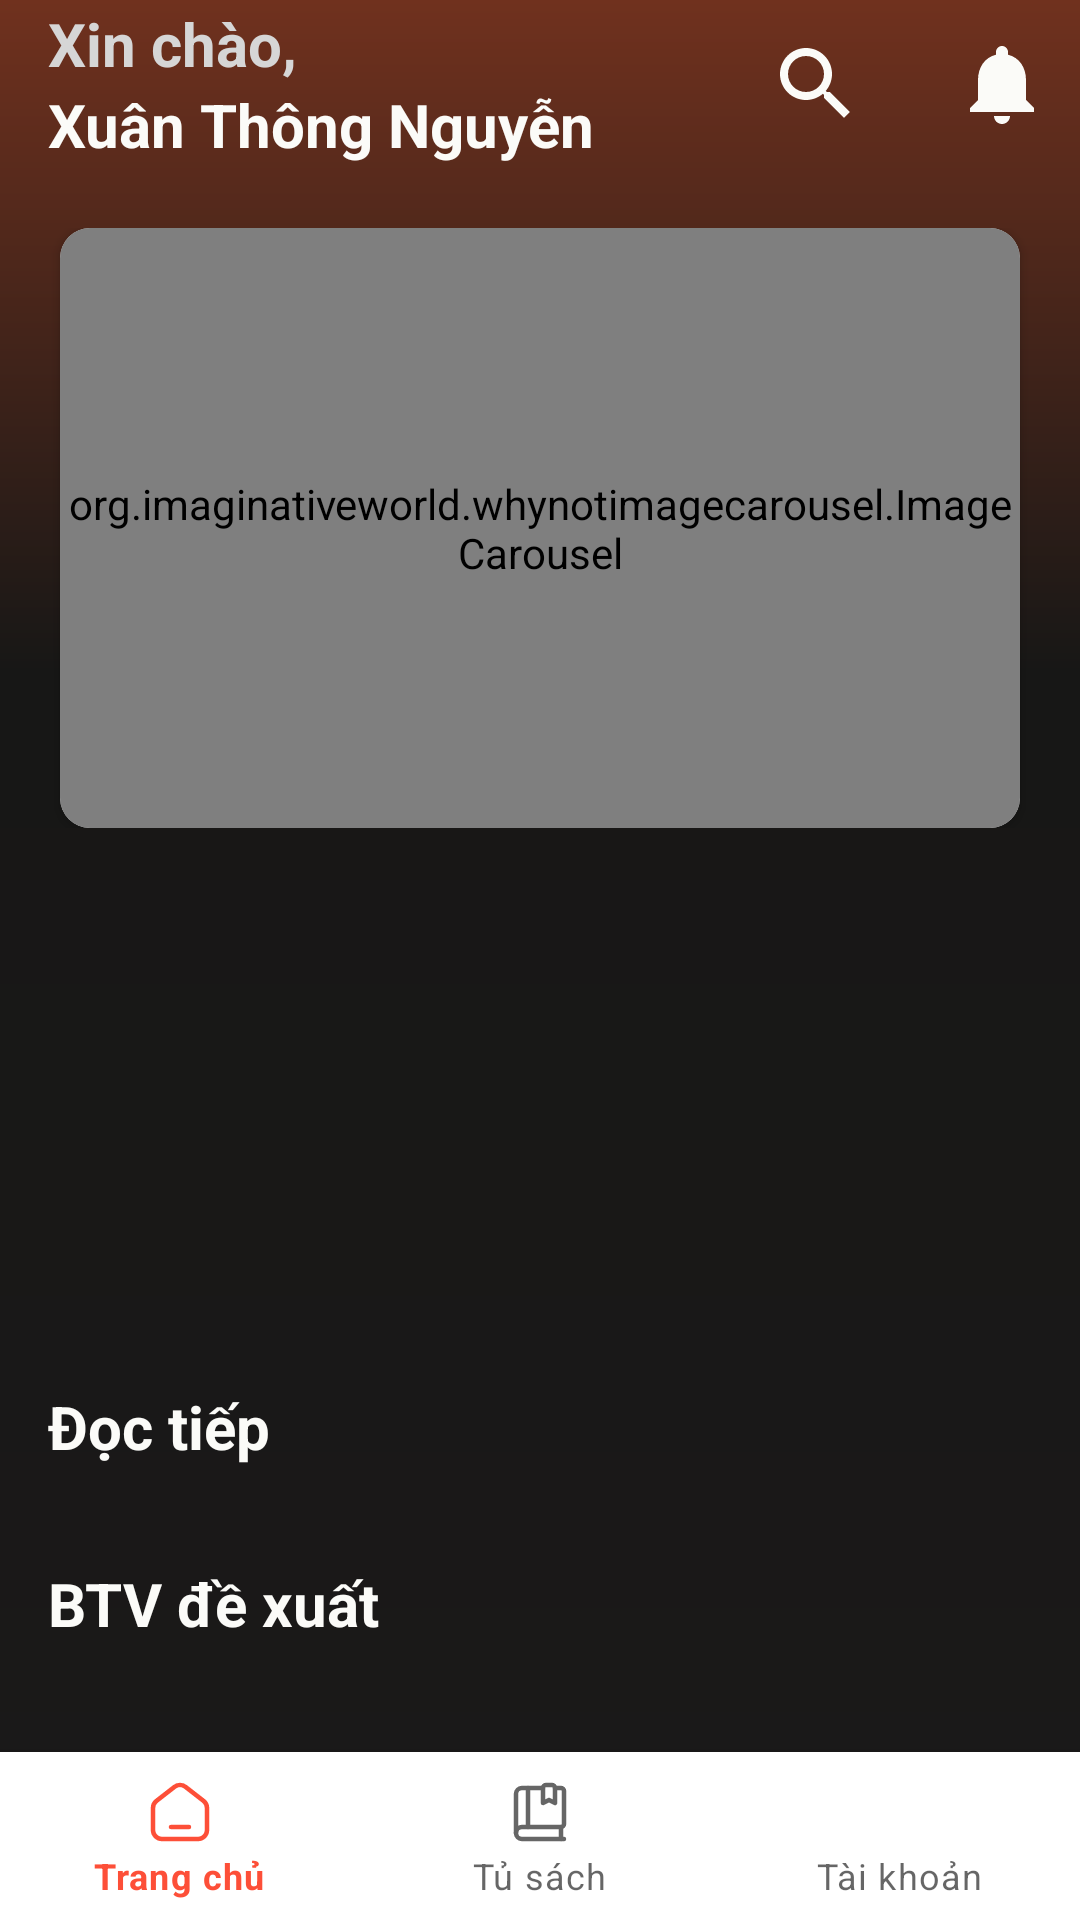

Icons on this 1080*1920 Android screen, each with its box as (x1, y1, x2, y2):
notifications: (970, 46, 1034, 124)
